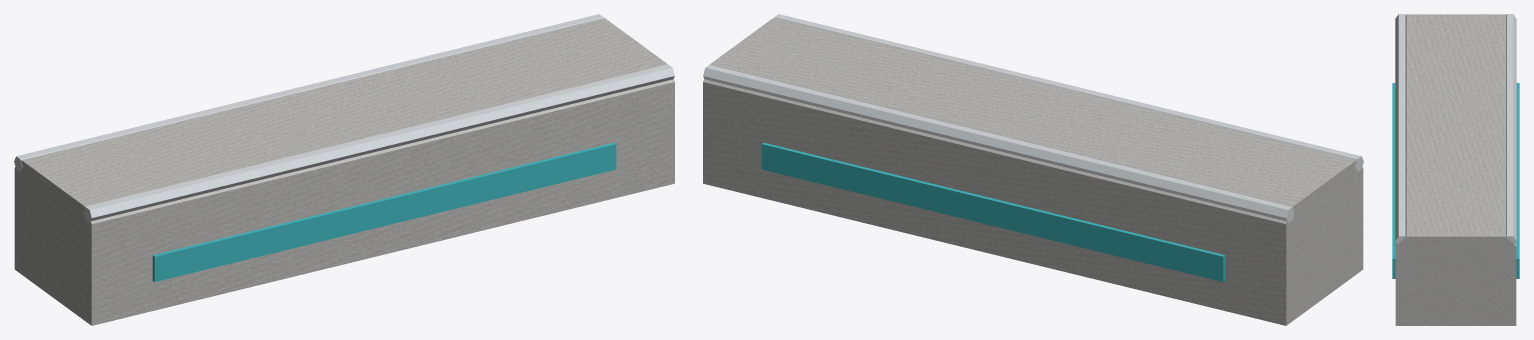
The model's file is skate-park-and-street-sports-grind-box-25236bc8.glb.
The picture shows the model from 3 angles, left to right: view 1: azimuth 30°, elevation 25°; view 2: azimuth 150°, elevation 25°; view 3: azimuth 270°, elevation 25°; orthographic projection. The views are drawn at different scales.
Visible parts, largest first — view 1: grind-box-concrete, grind-box-steel, grind-box-teal; view 2: grind-box-concrete, grind-box-steel, grind-box-teal; view 3: grind-box-concrete, grind-box-steel, grind-box-teal.
Part boxes in pixels (left/top/right/bottom): grind-box-concrete: left=14, top=18, right=674, bottom=325; grind-box-steel: left=14, top=14, right=674, bottom=222; grind-box-teal: left=152, top=142, right=616, bottom=281; grind-box-concrete: left=703, top=18, right=1363, bottom=325; grind-box-steel: left=703, top=14, right=1363, bottom=222; grind-box-teal: left=761, top=142, right=1225, bottom=281; grind-box-concrete: left=1395, top=14, right=1516, bottom=325; grind-box-steel: left=1395, top=14, right=1516, bottom=244; grind-box-teal: left=1392, top=83, right=1519, bottom=278.
Bounding box in the file's own units: 2.4 × 0.4509 × 0.5799.
Materials: 3 (1 with a texture image).
